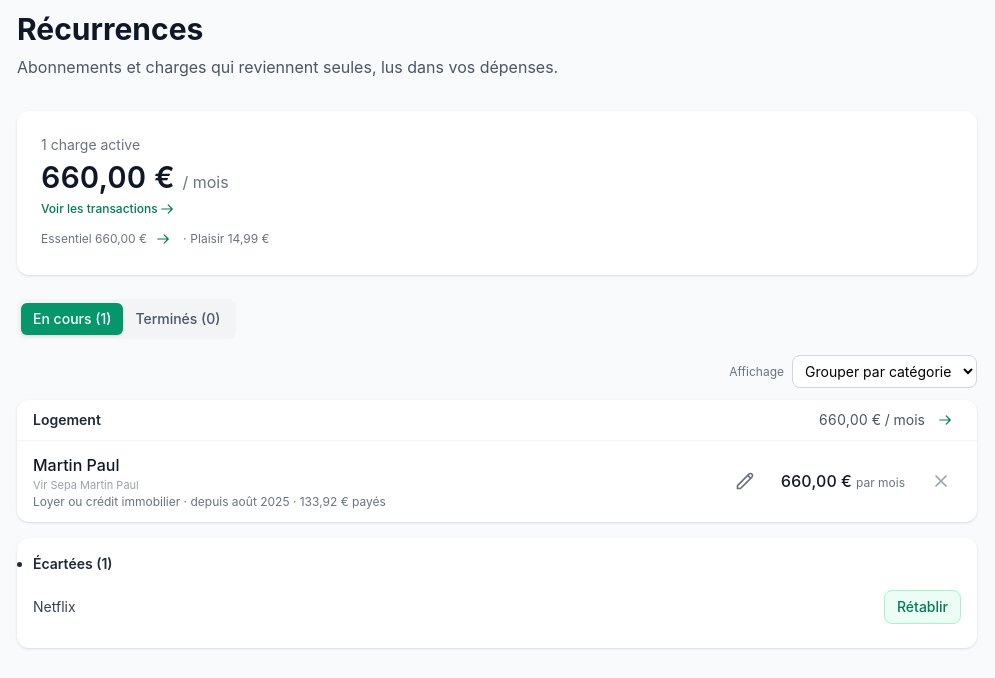
RecurrencesPage › takes a dismissal back by forgetting its subscription
Click the button with test id "restore-recurrence".
click(922, 606)  # box [884,590,961,624]
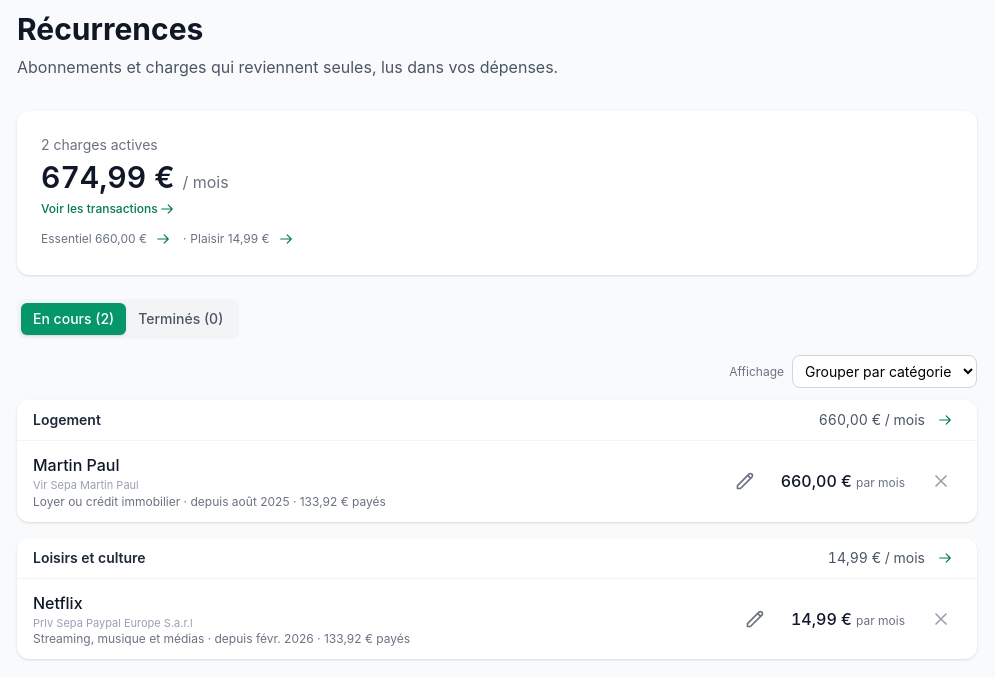
expect the number of list items with test id "recurrence-row" is 2: met, box [17,441,977,522]; [17,578,977,659]
